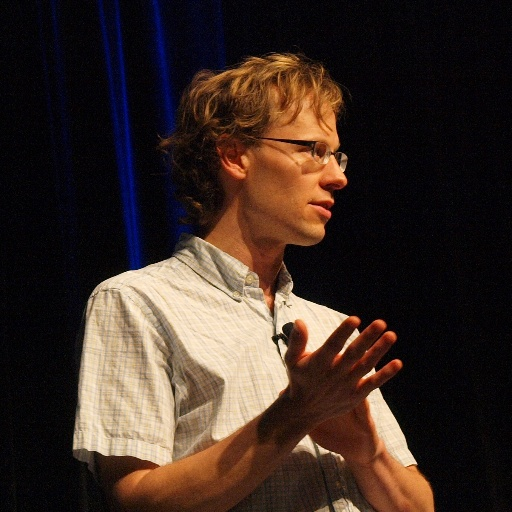hand: (104, 305, 399, 504), (278, 351, 386, 467)
